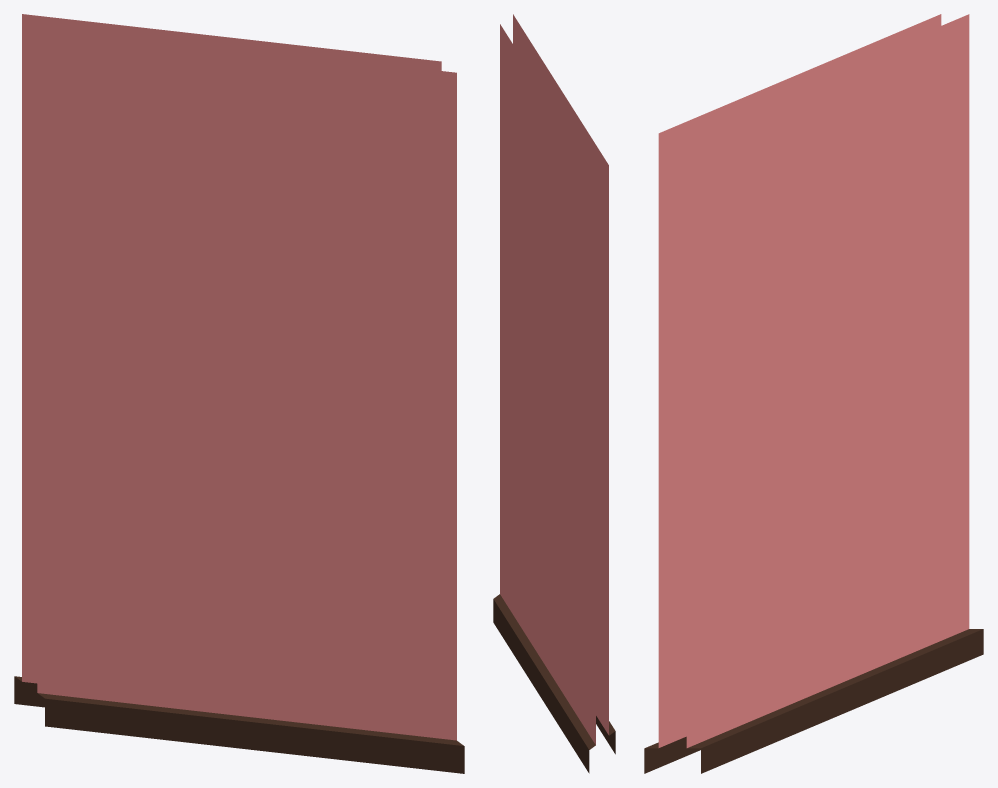
The model's file is SM_Mur_45_Gauche_1x1.fbx.
3 views of the same model, side by side, from view 1: azimuth 30°, elevation 25°; view 2: azimuth 150°, elevation 25°; view 3: azimuth 270°, elevation 25° (orthographic). The views are drawn at different scales.
Parts seen in each view (by area): view 1: SM_Mur_45_Gauche_1x1; view 2: SM_Mur_45_Gauche_1x1; view 3: SM_Mur_45_Gauche_1x1.
Boxes of the visible parts, <box> form: SM_Mur_45_Gauche_1x1: <box>14,14,464,773</box>; SM_Mur_45_Gauche_1x1: <box>493,14,615,773</box>; SM_Mur_45_Gauche_1x1: <box>644,14,983,773</box>.
Bounding box in the file's own units: 1 × 2.5 × 1.2.
